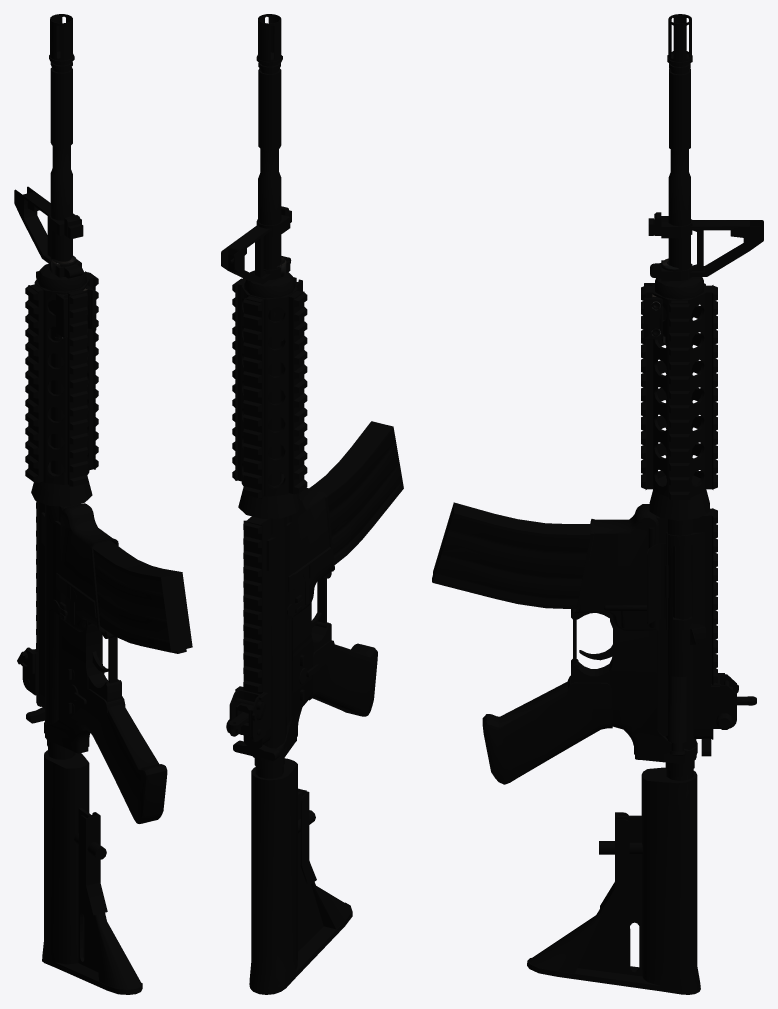
Rendered from M4A1__Light_Pistol.fbx.
The picture shows the model from 3 angles, left to right: view 1: azimuth 30°, elevation 25°; view 2: azimuth 150°, elevation 25°; view 3: azimuth 270°, elevation 25°; orthographic projection. The views are drawn at different scales.
Visible parts, largest first — view 1: asset_M4A1.001; view 2: asset_M4A1.001; view 3: asset_M4A1.001.
Part boxes in pixels (bbox=[...]): asset_M4A1.001: bbox=[14, 14, 192, 994]; asset_M4A1.001: bbox=[221, 14, 403, 994]; asset_M4A1.001: bbox=[432, 14, 763, 994].
Size of the model in its own units: 0.0329 by 0.444 by 0.1377.
